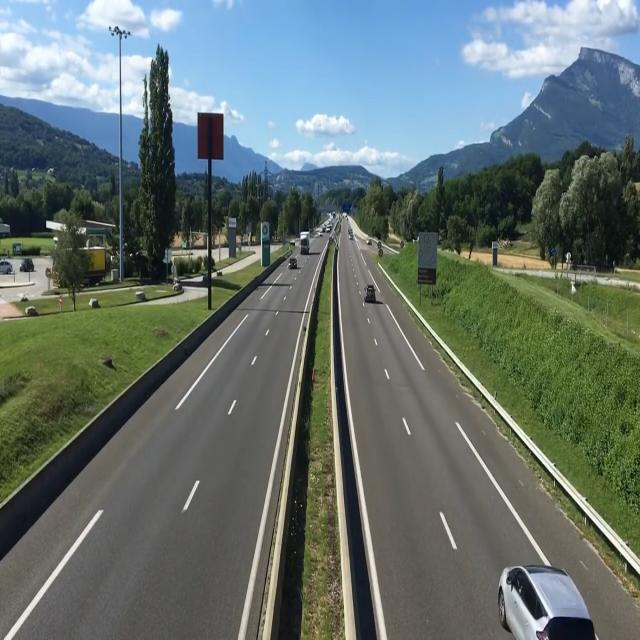car: (495, 568, 594, 638), (363, 282, 377, 306), (288, 258, 296, 272)
